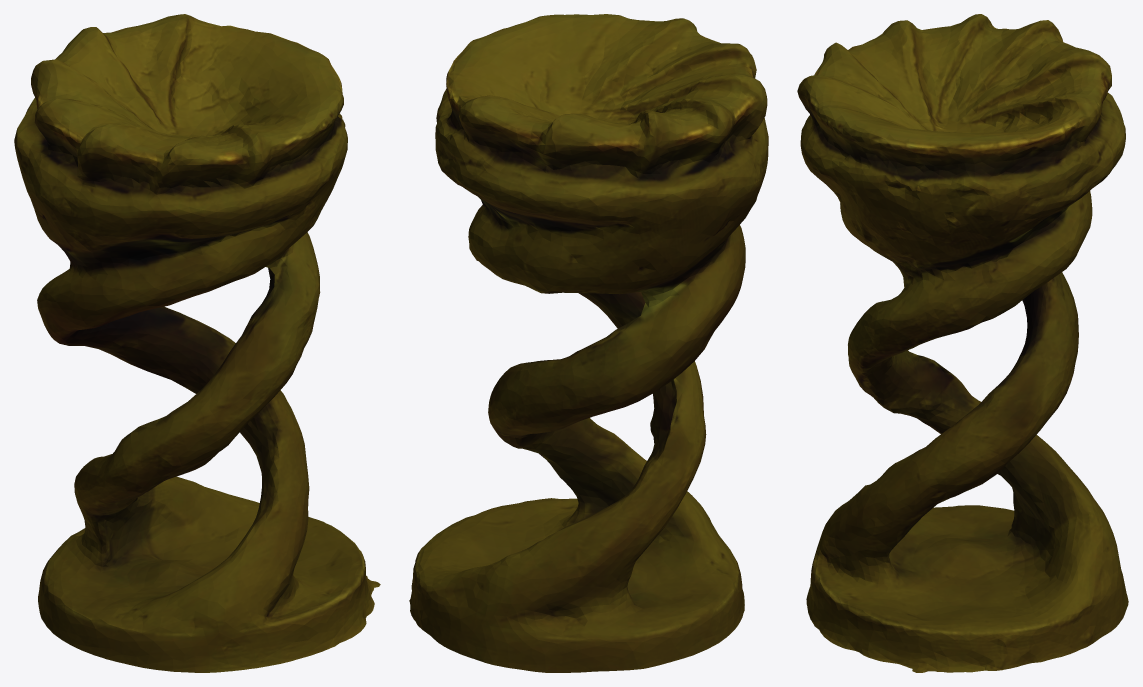
Rendered from WLC - Font-edited.glb.
3 renders of one model, left to right at view 1: azimuth 30°, elevation 25°; view 2: azimuth 150°, elevation 25°; view 3: azimuth 270°, elevation 25°, orthographic. The views are drawn at different scales.
Visible parts, largest first — view 1: WLC - Font; view 2: WLC - Font; view 3: WLC - Font.
Part boxes in pixels (x1,y1,x2,y2): WLC - Font: [14, 14, 380, 672]; WLC - Font: [409, 14, 768, 672]; WLC - Font: [797, 14, 1128, 672].
Size of the model in its own units: 0.1907 by 0.3078 by 0.1755.
Materials: 1 (1 with a texture image).
